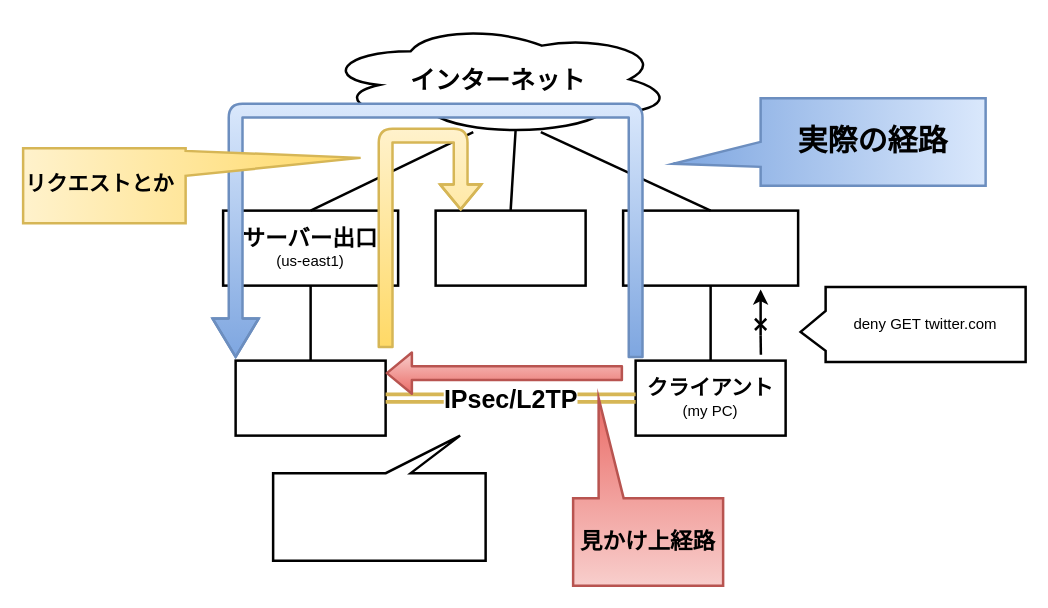
The diagram is 1048 pixels wide and 608 high, and some of its shapes have lost their labels. Each missing label, with the centre of its shape:
"Twitter server" belongs at (x=510, y=247).
"Virtual Private Network 見掛け上は同じネットワーク" belongs at (x=378, y=497).
"サーバー (always-free)" belongs at (x=310, y=397).
"出口ノード (HIU)" belongs at (x=710, y=247).
